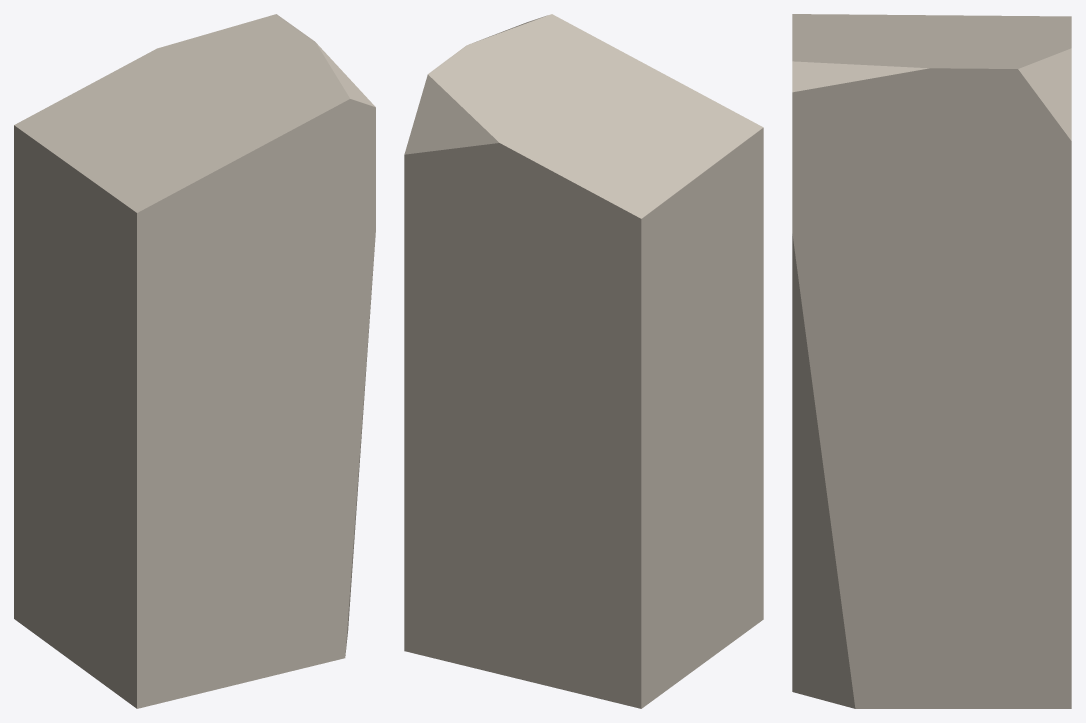
File: Rock_Square_m_04.fbx
3 views of the same model, side by side, from view 1: azimuth 30°, elevation 25°; view 2: azimuth 150°, elevation 25°; view 3: azimuth 270°, elevation 25° (orthographic). The views are drawn at different scales.
Visible parts, largest first — view 1: Rock_Square_m_04; view 2: Rock_Square_m_04; view 3: Rock_Square_m_04.
Part boxes in pixels (left/top/right/bottom): Rock_Square_m_04: left=14, top=14, right=375, bottom=708; Rock_Square_m_04: left=404, top=14, right=763, bottom=708; Rock_Square_m_04: left=792, top=14, right=1071, bottom=708.
Size of the model in its own units: 43.48 by 98.19 by 38.8.
